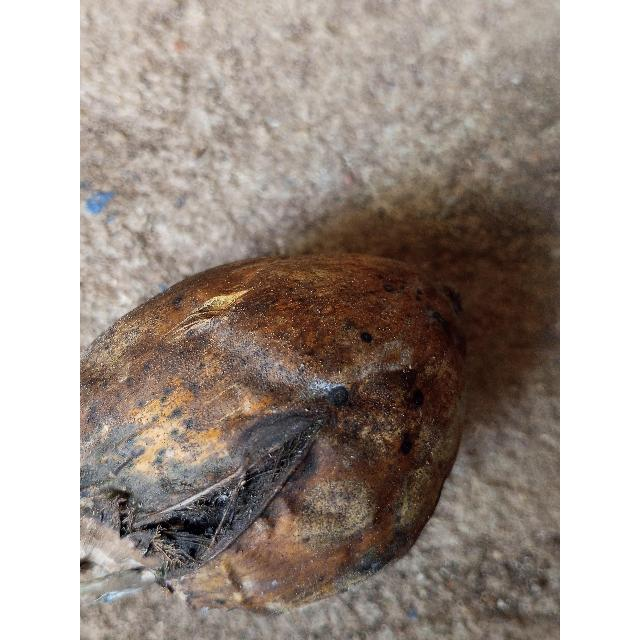damaged: (81, 255, 465, 612)
